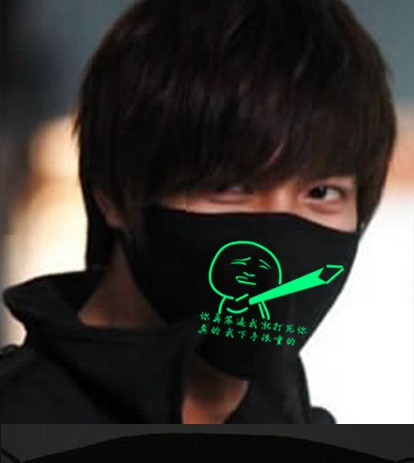face_mask: (152, 74, 365, 351)
